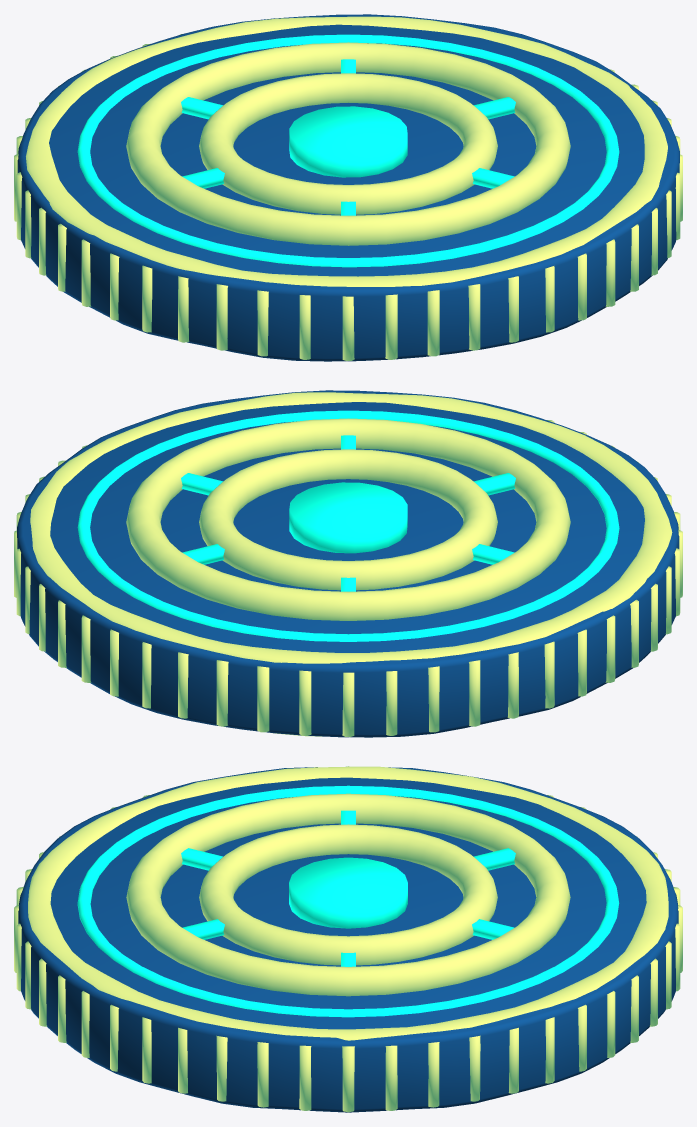
The model's file is token-plasma_dynamo.glb.
3 renders of one model, top to bottom at view 1: azimuth 30°, elevation 25°; view 2: azimuth 150°, elevation 25°; view 3: azimuth 270°, elevation 25°, orthographic.
Visible parts, largest first — view 1: TokenBody, Torus.004, TopRim, Torus.005, TopRim_Inner, Cylinder, EdgeReed_34, EdgeReed_33, EdgeReed_35, EdgeReed_32, EdgeReed_29, EdgeReed_31 (+15 smaller); view 2: TokenBody, Torus.004, TopRim, Torus.005, TopRim_Inner, Cylinder, EdgeReed_14, EdgeReed_15, EdgeReed_13, EdgeReed_16, EdgeReed_19, EdgeReed_17 (+15 smaller); view 3: TokenBody, Torus.004, TopRim, Torus.005, TopRim_Inner, Cylinder, EdgeReed_0, EdgeReed_1, EdgeReed_47, EdgeReed_2, EdgeReed_46, EdgeReed_3 (+16 smaller).
Part boxes in pixels (x1,y1,x2,y2): TokenBody: (17, 14, 679, 361); Torus.004: (126, 42, 570, 245); TopRim: (26, 16, 667, 286); Torus.005: (199, 73, 497, 214); TopRim_Inner: (77, 34, 619, 267); Cylinder: (289, 106, 407, 177); EdgeReed_34: (427, 290, 439, 356); EdgeReed_33: (385, 294, 397, 359); EdgeReed_35: (468, 284, 480, 350); EdgeReed_32: (342, 296, 354, 360); EdgeReed_29: (216, 284, 227, 350); EdgeReed_31: (299, 295, 310, 359); TokenBody: (17, 390, 679, 737); Torus.004: (126, 418, 570, 620); TopRim: (30, 392, 672, 663); Torus.005: (199, 449, 497, 590); TopRim_Inner: (77, 410, 619, 641); Cylinder: (289, 482, 407, 553); EdgeReed_14: (257, 666, 269, 732); EdgeReed_15: (299, 670, 311, 735); EdgeReed_13: (216, 660, 228, 726); EdgeReed_16: (342, 672, 354, 737); EdgeReed_19: (469, 660, 480, 726); EdgeReed_17: (386, 671, 397, 735); TokenBody: (18, 767, 678, 1112); Torus.004: (126, 793, 570, 996); TopRim: (28, 766, 668, 1040); Torus.005: (199, 824, 497, 965); TopRim_Inner: (77, 785, 619, 1017); Cylinder: (289, 857, 407, 928); EdgeReed_0: (342, 1046, 354, 1112); EdgeReed_1: (385, 1045, 397, 1110); EdgeReed_47: (299, 1045, 311, 1110); EdgeReed_2: (428, 1042, 439, 1107); EdgeReed_46: (257, 1042, 268, 1107); EdgeReed_3: (469, 1035, 480, 1101).
Bounding box in the file's own units: 2.02 × 0.3836 × 2.02.
